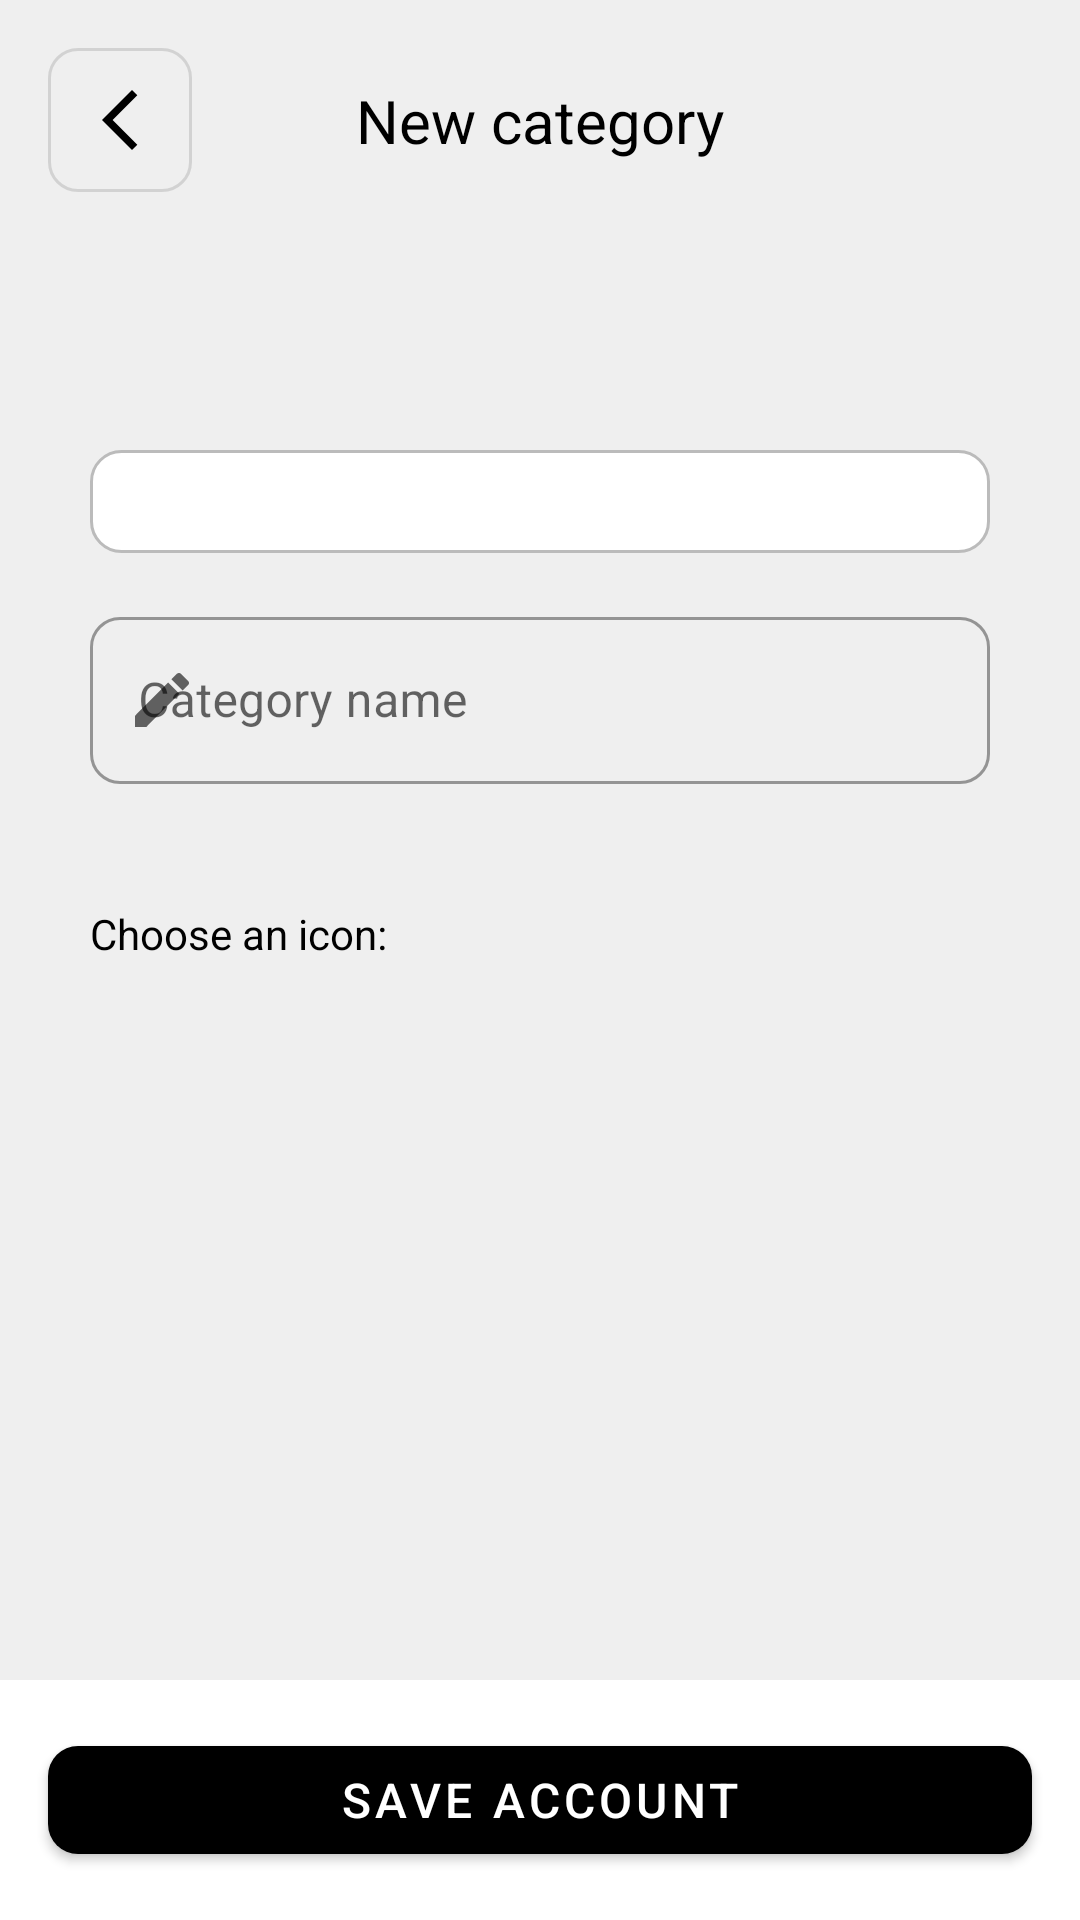

Point at icon controls on the screen. Image size 1080 x 1920, points as point (x, y).
arrow back: point (120, 120)
